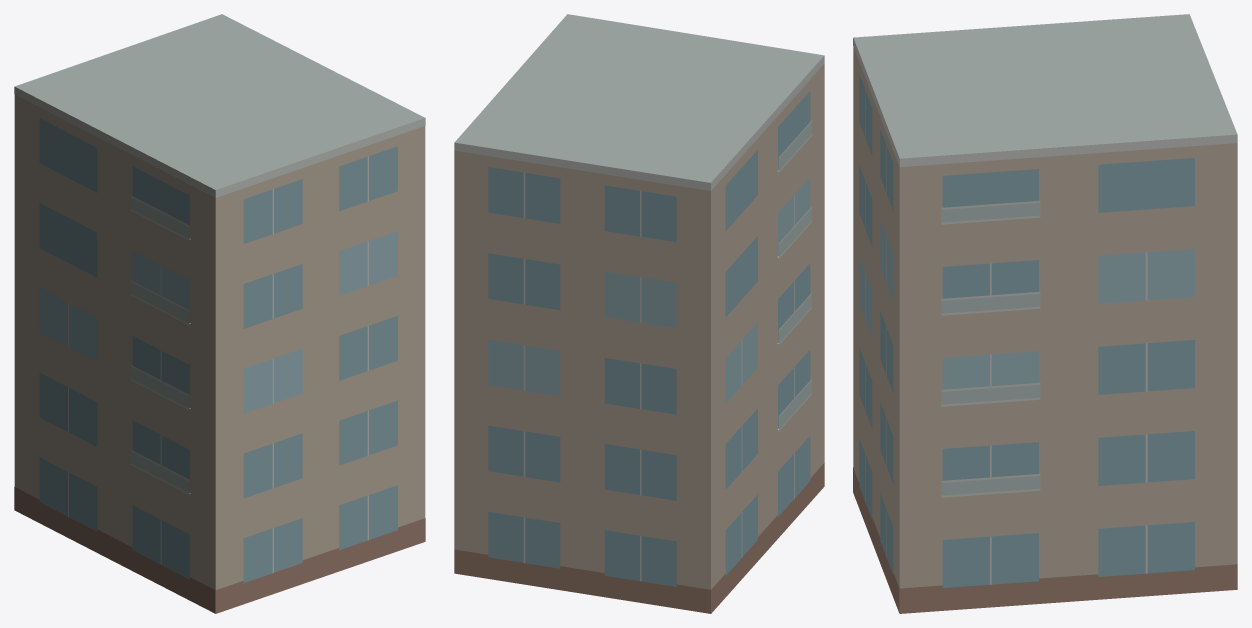
The model's file is survey-upis-32543032.glb.
The picture shows the model from 3 angles, left to right: view 1: azimuth 30°, elevation 25°; view 2: azimuth 150°, elevation 25°; view 3: azimuth 270°, elevation 25°; orthographic projection. The views are drawn at different scales.
Parts seen in each view (by area): view 1: survey-upis-32543032.tmp; view 2: survey-upis-32543032.tmp; view 3: survey-upis-32543032.tmp.
Part boxes in pixels (bbox=[...]): survey-upis-32543032.tmp: bbox=[14, 14, 425, 613]; survey-upis-32543032.tmp: bbox=[454, 14, 824, 613]; survey-upis-32543032.tmp: bbox=[853, 14, 1237, 613].
Bounding box in the file's own units: 8.94 × 13.1 × 10.04.
